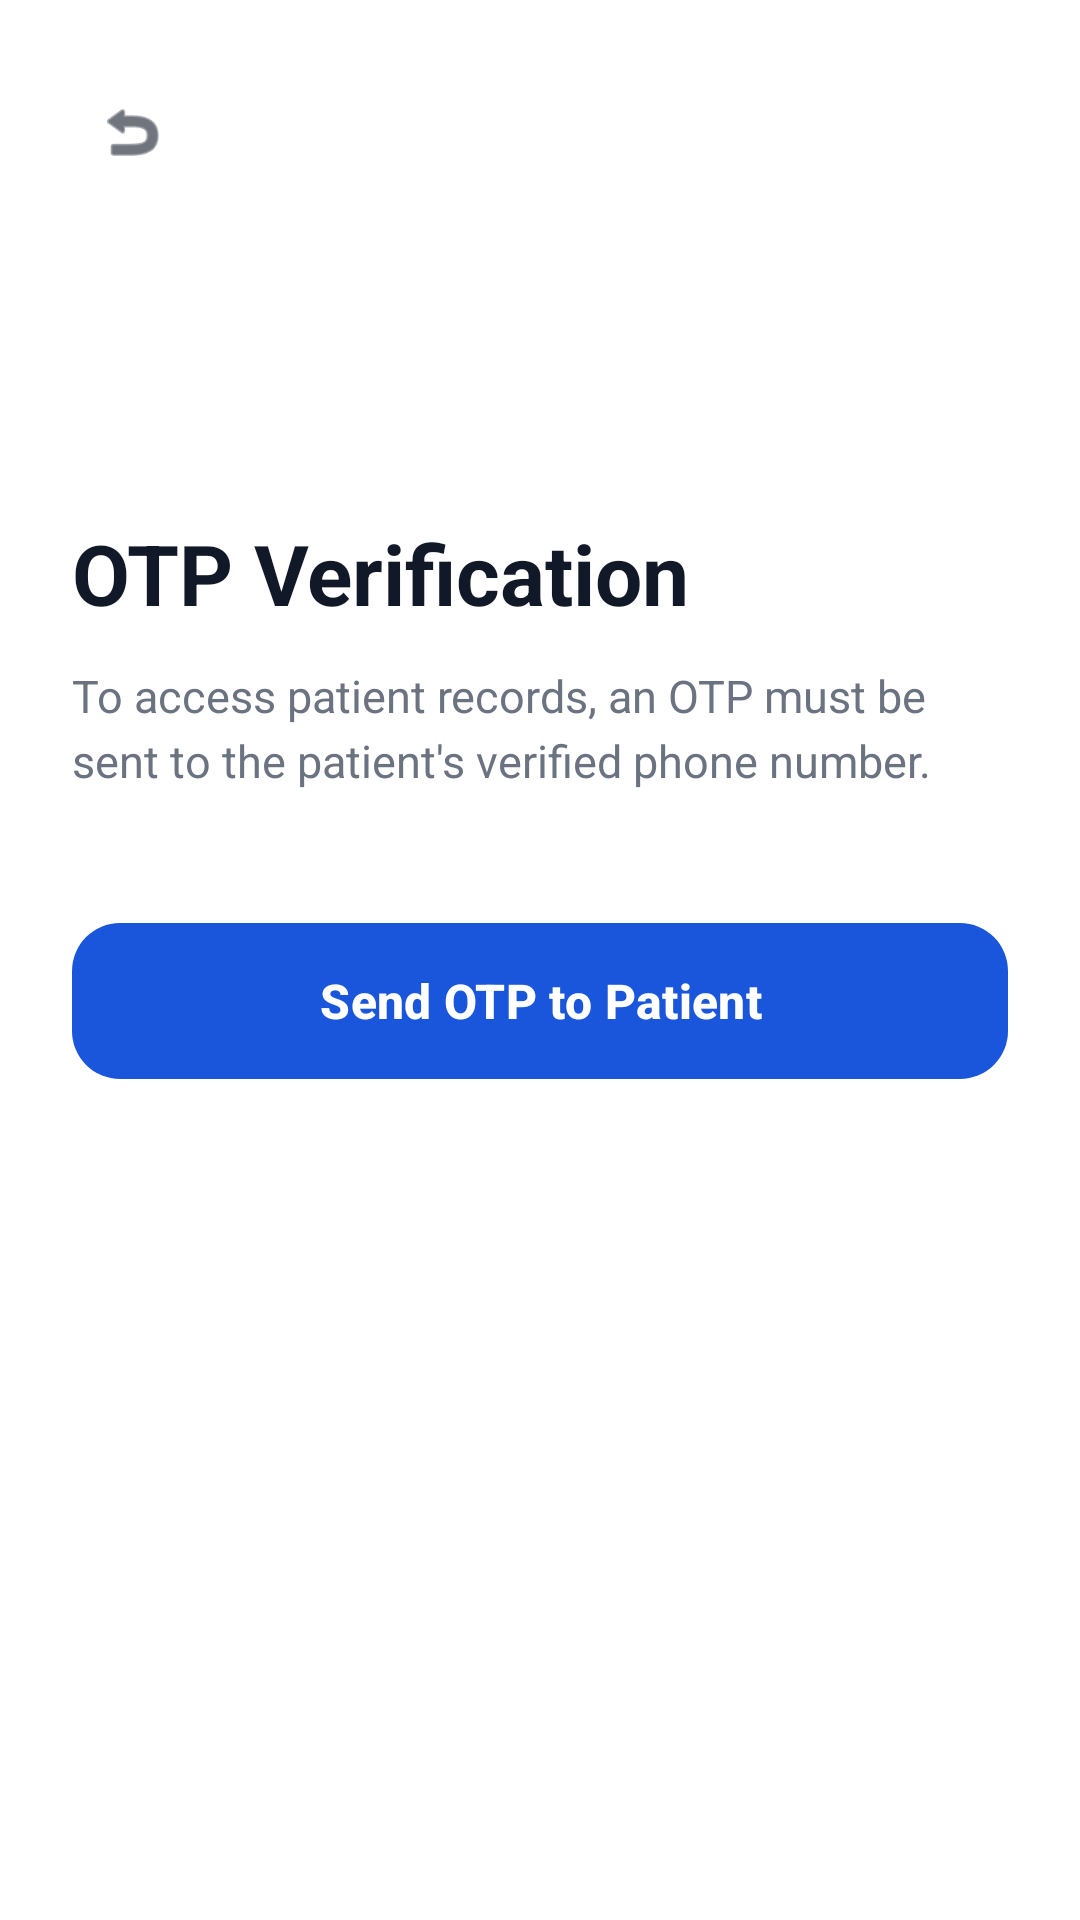

Named icons in this screenshot (1080 × 1920) and their bounding boxes, (left=x1, top=y1, right=x2, bottom=y2):
revert: (left=107, top=109, right=159, bottom=156)
